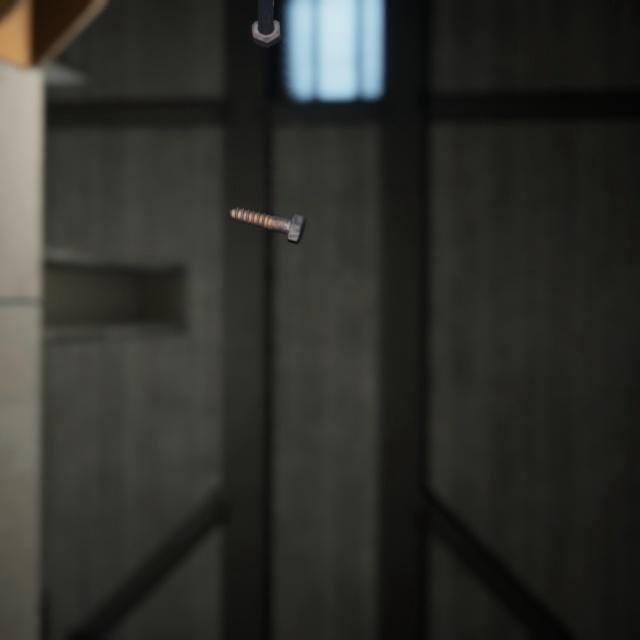bolt: (224, 186, 310, 232), (247, 0, 285, 44)
